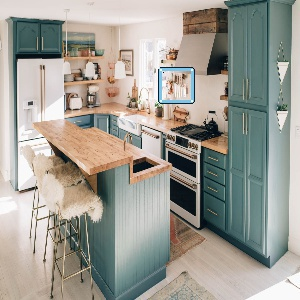square: (156, 65, 197, 105)
